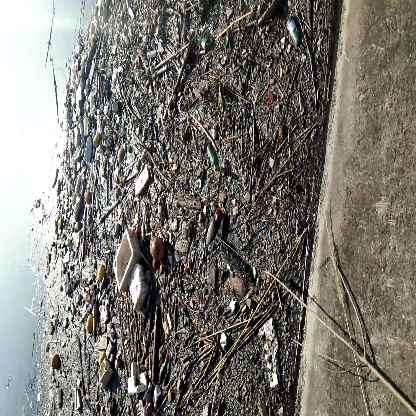plastic-garbage: (107, 230, 153, 316)
